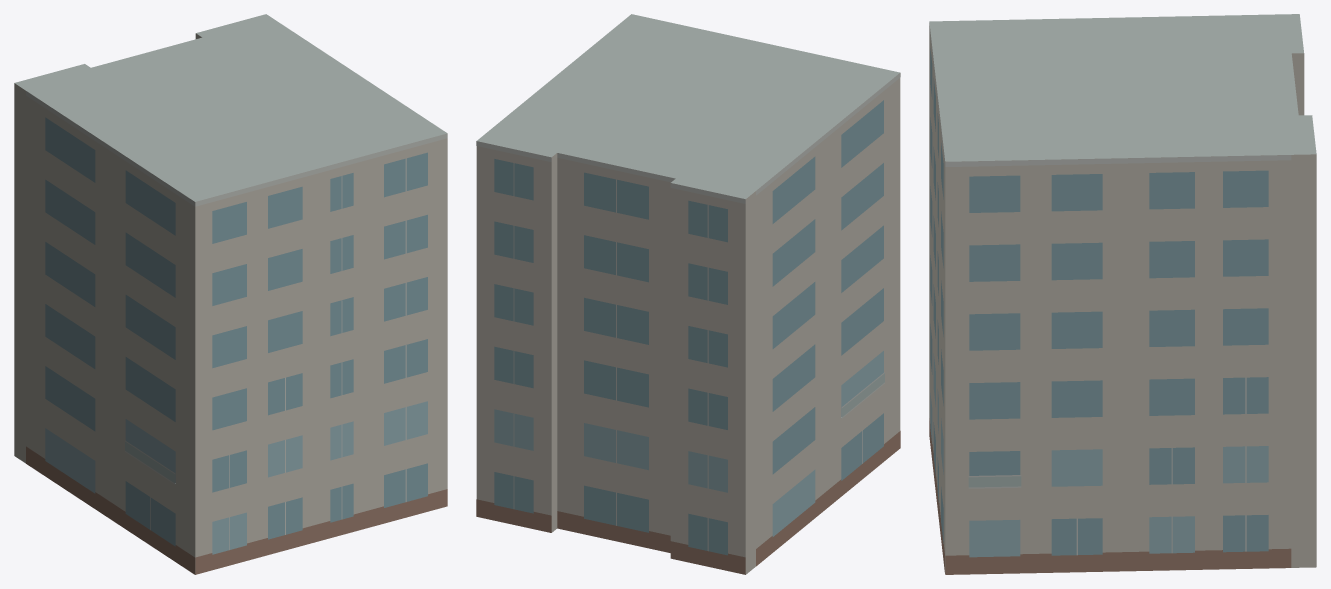
The model's file is survey-upis-32744341.glb.
3 views of the same model, side by side, from view 1: azimuth 30°, elevation 25°; view 2: azimuth 150°, elevation 25°; view 3: azimuth 270°, elevation 25° (orthographic). The views are drawn at different scales.
Parts seen in each view (by area): view 1: survey-upis-32744341.tmp; view 2: survey-upis-32744341.tmp; view 3: survey-upis-32744341.tmp.
Part boxes in pixels (box(x1,y1,x2,y2)): survey-upis-32744341.tmp: box(14, 14, 447, 574); survey-upis-32744341.tmp: box(476, 14, 900, 574); survey-upis-32744341.tmp: box(929, 14, 1316, 574).
Bounding box in the file's own units: 14.43 × 18.8 × 15.99.
